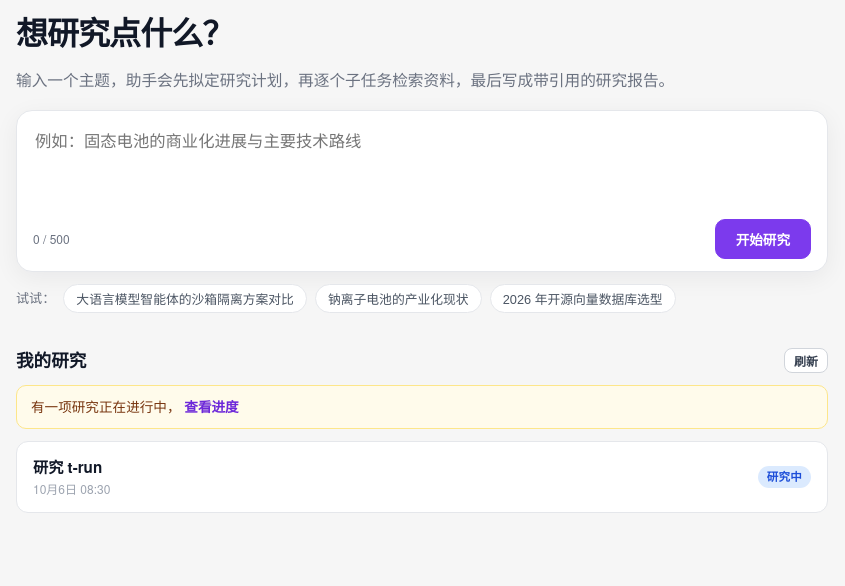
Test: AssistantView › shows the user_task_running copy, and validates an empty topic locally
The image size is (845, 586).
Expected: the text with class "badge" reads "研究中", [767, 468, 802, 485]
Expected: the text with class "research-topic" reads "研究 t-run", [33, 456, 102, 478]
Submit the form, box [16, 110, 828, 272]
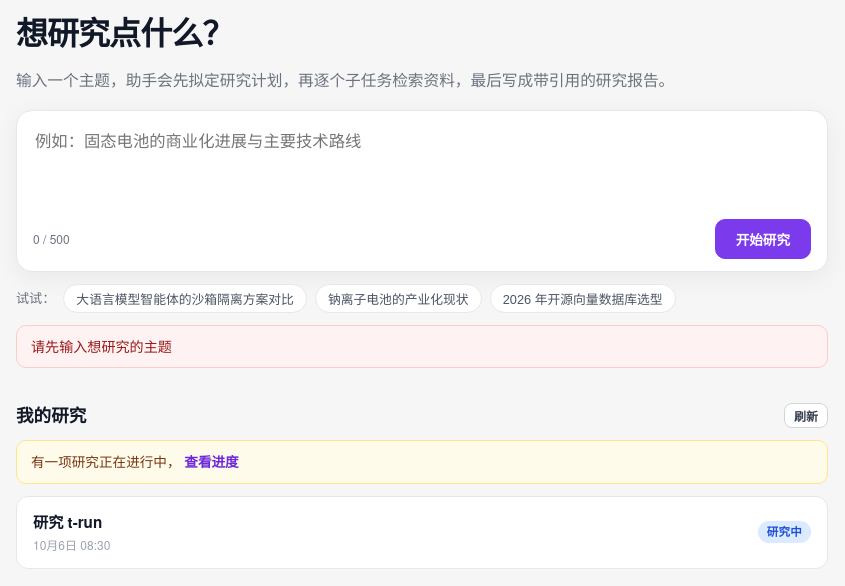
Expected: the message with test id "submit-error" shows "主题", [16, 325, 828, 368]
Type "新的主题" into the text box named "topic".
click(422, 166); type("新的主题")  # box [33, 124, 811, 207]
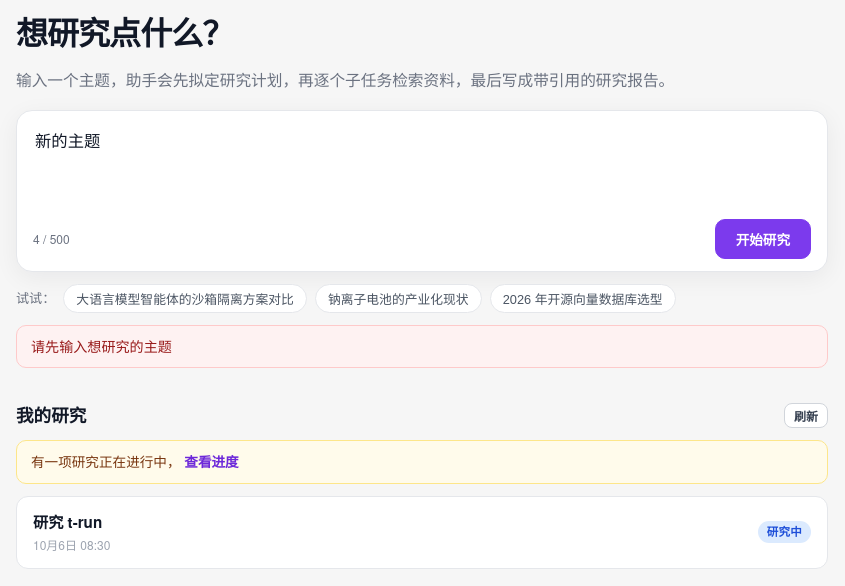
Submit the form, box [16, 110, 828, 272]
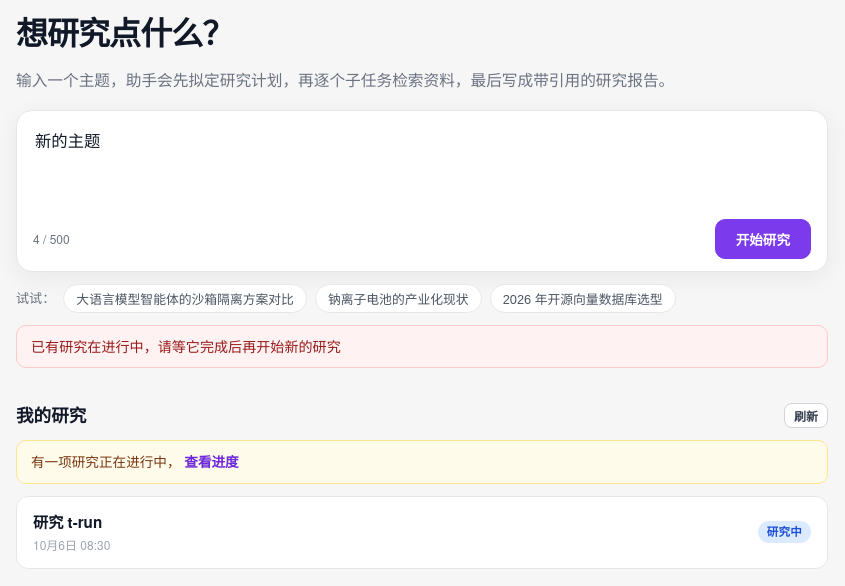
Expected: the message with test id "submit-error" reads "已有研究在进行中，请等它完成后再开始新的研究", [31, 336, 341, 356]
